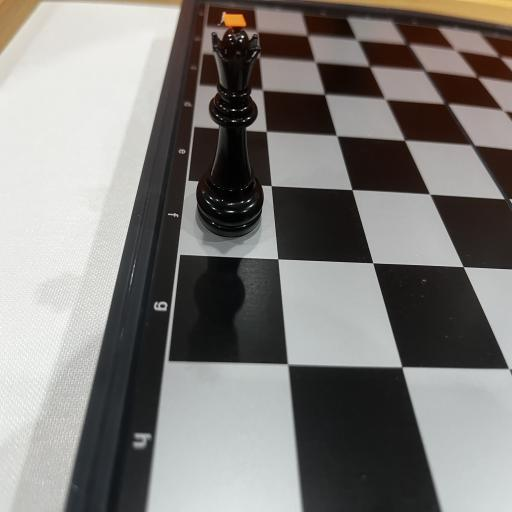Black queen: (195, 12, 264, 237)
